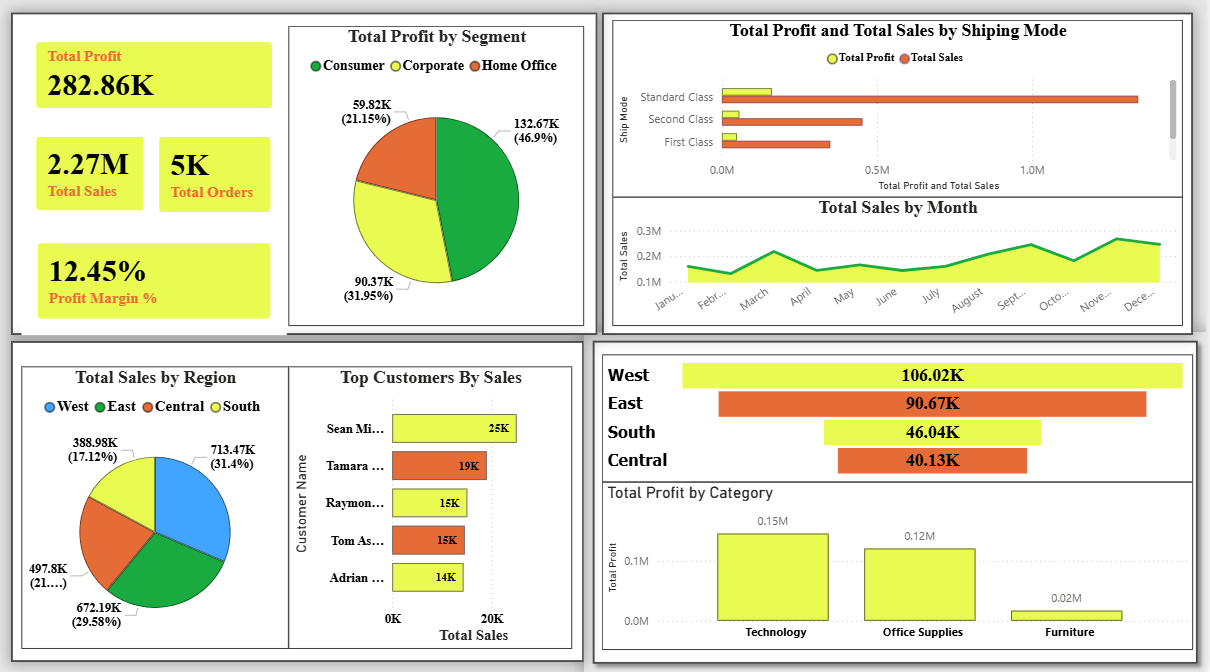

The dashboard page shown, as its layout file describes it:
{"tool":"powerbi","page":{"name":"Page 1","canvas":[1280,720],"ordinal":0},"visuals":[{"type":"shape","box":[620.3,359.5,660.1,361.1],"z":0},{"type":"funnel","fields":{"Category":["retail_data.Region"],"Y":["retail_data.Total Profit"]},"box":[639.4,383.3,626.7,135.2],"z":1000},{"type":"shape","box":[628.3,22.3,637.8,342],"z":2000},{"type":"shape","box":[12.7,20.7,607.6,342],"z":3000},{"type":"shape","box":[12.7,369,607.6,340.4],"z":4000},{"type":"cardVisual","fields":{"Data":["retail_data.Total Sales"]},"box":[22.3,135.2,152.7,112.9],"z":5000},{"type":"cardVisual","fields":{"Data":["retail_data.Total Profit"]},"box":[22.3,35,284.7,105],"z":6000},{"type":"cardVisual","fields":{"Data":["retail_data.Profit Margin %"]},"box":[22.3,245,281.5,114.5],"z":7000},{"type":"clusteredBarChart","title":"Total Profit and Total Sales by Shiping Mode","fields":{"Category":["retail_data.Ship Mode"],"Y":["retail_data.Total Profit","retail_data.Total Sales"]},"box":[639.4,28.6,604.4,187.7],"z":8000},{"type":"clusteredColumnChart","fields":{"Category":["retail_data.Category"],"Y":["retail_data.Total Profit"]},"box":[639.4,518.5,626.7,178.1],"z":9000},{"type":"lineChart","fields":{"Y":["retail_data.Total Sales"],"Category":["retail_data.Order Date.Variation.Date Hierarchy.Year","retail_data.Order Date.Variation.Date Hierarchy.Quarter","retail_data.Order Date.Variation.Date Hierarchy.Month","retail_data.Order Date.Variation.Date Hierarchy.Day"]},"box":[639.4,222.7,604.4,136.8],"z":10000},{"type":"cardVisual","fields":{"Data":["retail_data.Total Orders"]},"box":[152.7,135.2,152.7,114.5],"z":11000},{"type":"pieChart","fields":{"Y":["retail_data.Total Sales"],"Category":["retail_data.Region"]},"box":[23.9,396.1,283.1,299],"z":12000},{"type":"pieChart","fields":{"Y":["retail_data.Total Profit"],"Category":["retail_data.Segment"]},"box":[307,52.5,300.6,289.5],"z":13000},{"type":"clusteredBarChart","title":"Top Customers By Sales","fields":{"Category":["retail_data.Customer Name"],"Y":["retail_data.Total Sales"]},"box":[307,396.1,300.6,299],"z":14000}]}

Visuals, with their boxes in screenshot pixels (x1, y1, x2, y2), scaled from the page's 1280x720 canvas onto the 1210x672 screenshot:
shape: <region>586, 336, 1209, 671</region>
funnel - retail_data.Region x retail_data.Total Profit: <region>604, 358, 1197, 484</region>
shape: <region>594, 21, 1197, 340</region>
shape: <region>12, 19, 586, 339</region>
shape: <region>12, 344, 586, 662</region>
cardVisual - retail_data.Total Sales: <region>21, 126, 165, 232</region>
cardVisual - retail_data.Total Profit: <region>21, 33, 290, 131</region>
cardVisual - retail_data.Profit Margin %: <region>21, 229, 287, 336</region>
"Total Profit and Total Sales by Shiping Mode" clusteredBarChart: <region>604, 27, 1176, 202</region>
clusteredColumnChart - retail_data.Category x retail_data.Total Profit: <region>604, 484, 1197, 650</region>
lineChart - retail_data.Total Sales x retail_data.Order Date.Variation.Date Hierarchy.Year: <region>604, 208, 1176, 336</region>
cardVisual - retail_data.Total Orders: <region>144, 126, 289, 233</region>
pieChart - retail_data.Total Sales x retail_data.Region: <region>23, 370, 290, 649</region>
pieChart - retail_data.Total Profit x retail_data.Segment: <region>290, 49, 574, 319</region>
"Top Customers By Sales" clusteredBarChart: <region>290, 370, 574, 649</region>
